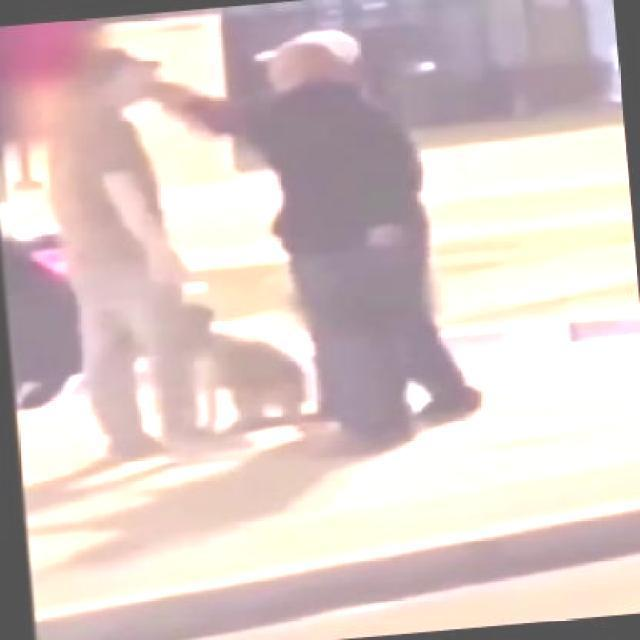fight: (41, 22, 486, 475)
